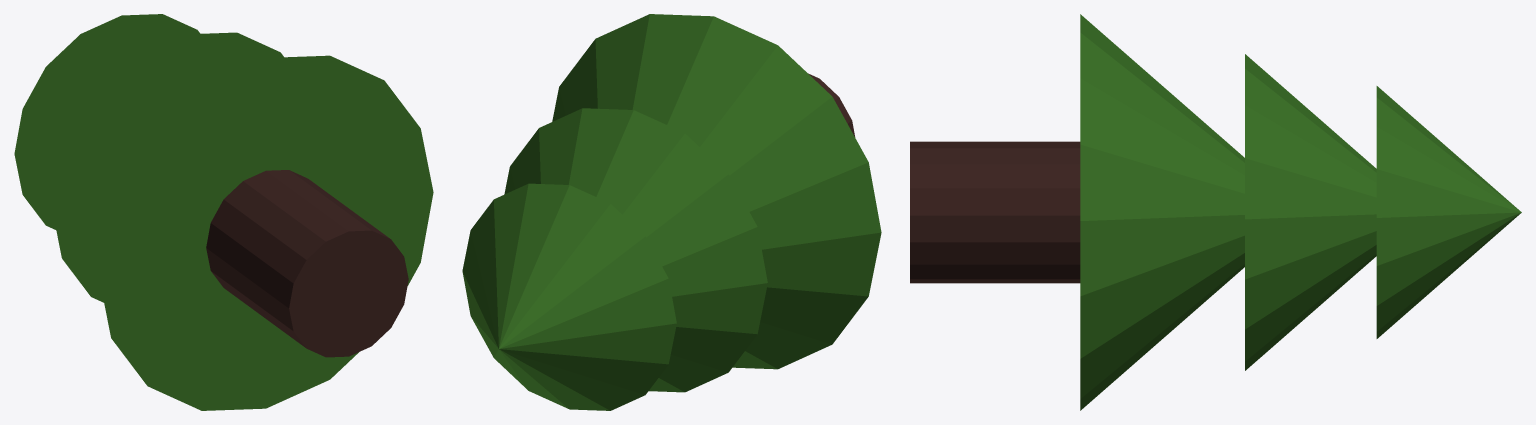
The model's file is tree.fbx.
3 views of the same model, side by side, from view 1: azimuth 30°, elevation 25°; view 2: azimuth 150°, elevation 25°; view 3: azimuth 270°, elevation 25° (orthographic). The views are drawn at different scales.
Visible parts, largest first — view 1: Cylinder; view 2: Cylinder; view 3: Cylinder.
Part boxes in pixels (box(x1,y1,x2,y2)): Cylinder: box(14, 14, 433, 410); Cylinder: box(462, 14, 881, 410); Cylinder: box(910, 14, 1521, 410).
Bounding box in the file's own units: 280 × 280 × 431.
